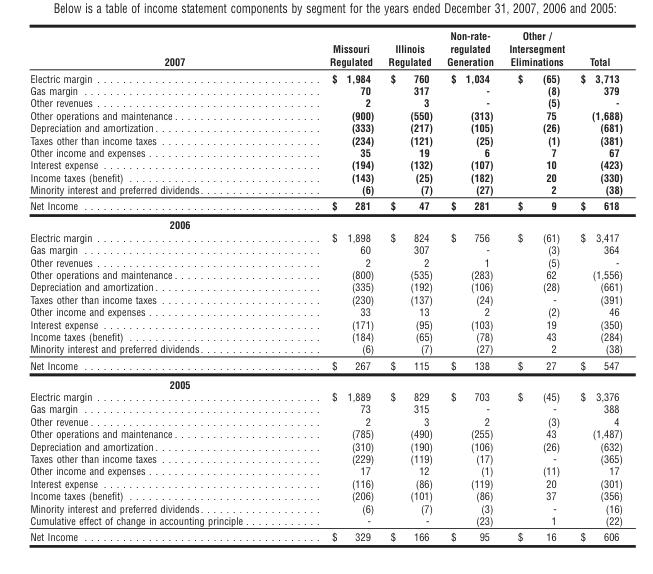table: (29, 29, 622, 542)
table column: (29, 29, 285, 542), (285, 29, 380, 542), (500, 29, 571, 542), (439, 29, 500, 542), (380, 29, 439, 542), (571, 29, 622, 542)
table column header: (29, 29, 622, 69)
table projected row header: (29, 215, 622, 230), (29, 374, 622, 389)
table row: (29, 29, 622, 69), (29, 197, 622, 215), (29, 356, 622, 374), (29, 215, 622, 230), (29, 374, 622, 389), (29, 513, 622, 528), (29, 69, 622, 83), (29, 183, 622, 197), (29, 342, 622, 356), (29, 528, 622, 542), (29, 83, 622, 96), (29, 108, 622, 121), (29, 145, 622, 158), (29, 170, 622, 183), (29, 230, 622, 243), (29, 267, 622, 280), (29, 292, 622, 305), (29, 317, 622, 330), (29, 389, 622, 402), (29, 414, 622, 427), (29, 439, 622, 452), (29, 476, 622, 489), (29, 96, 622, 108), (29, 121, 622, 133), (29, 133, 622, 145), (29, 158, 622, 170), (29, 243, 622, 255), (29, 255, 622, 267), (29, 280, 622, 292), (29, 305, 622, 317), (29, 330, 622, 342), (29, 402, 622, 414), (29, 427, 622, 439), (29, 452, 622, 464), (29, 464, 622, 476), (29, 489, 622, 501), (29, 501, 622, 513)
